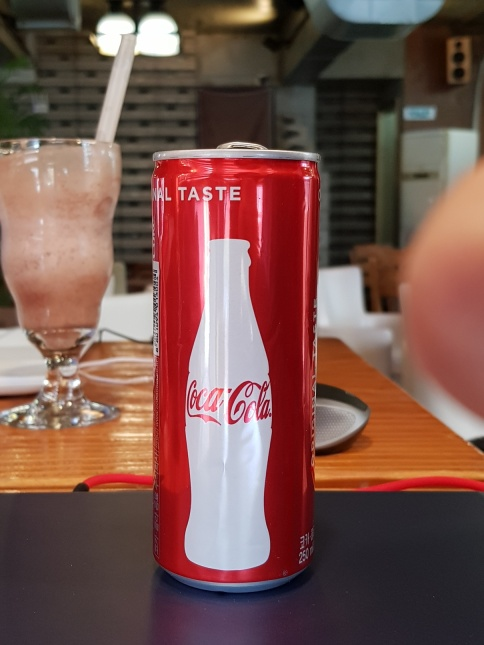Can: (144, 140, 322, 599)
